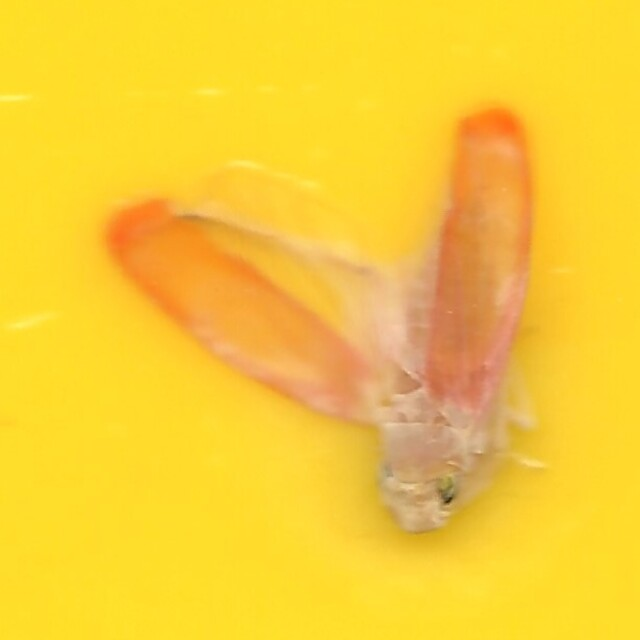Hemiptera: (104, 103, 536, 537)
